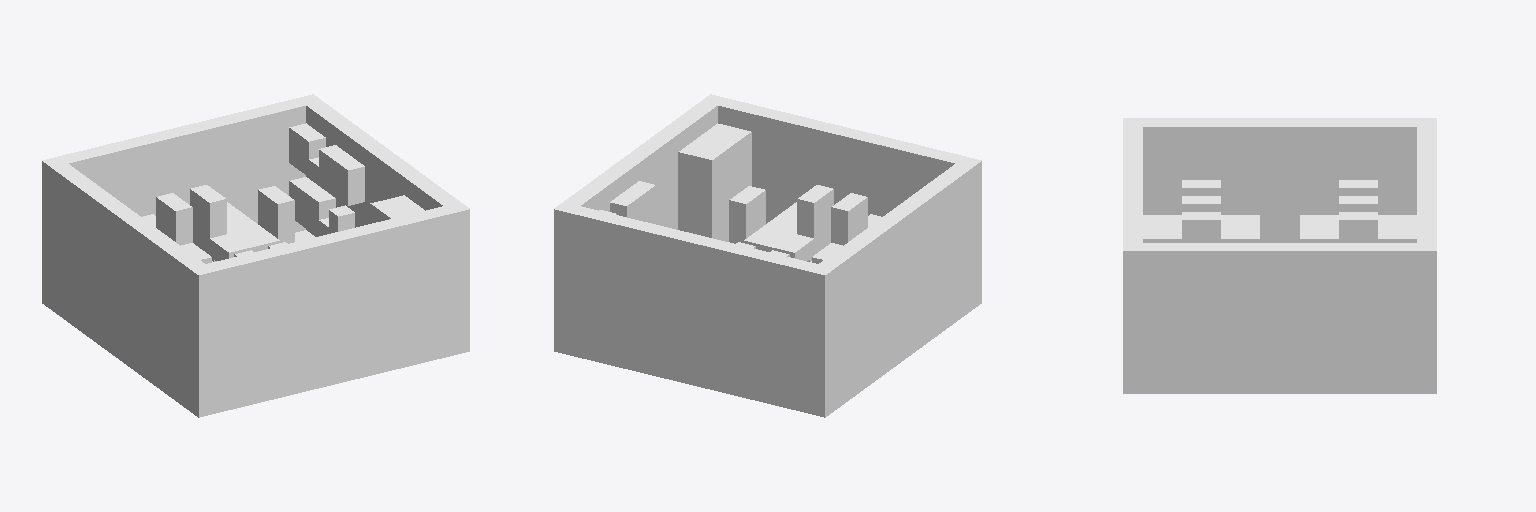
File: towar-5.obj
3 renders of one model, left to right at view 1: azimuth 30°, elevation 25°; view 2: azimuth 150°, elevation 25°; view 3: azimuth 270°, elevation 25°, orthographic.
Parts seen in each view (by area): view 1: towar-5; view 2: towar-5; view 3: towar-5.
Boxes of the visible parts, x1,y1,x2,y2 form: towar-5: [42, 94, 469, 417]; towar-5: [554, 94, 981, 417]; towar-5: [1123, 118, 1436, 393].
Bounding box in the file's own units: 16 × 8 × 16.